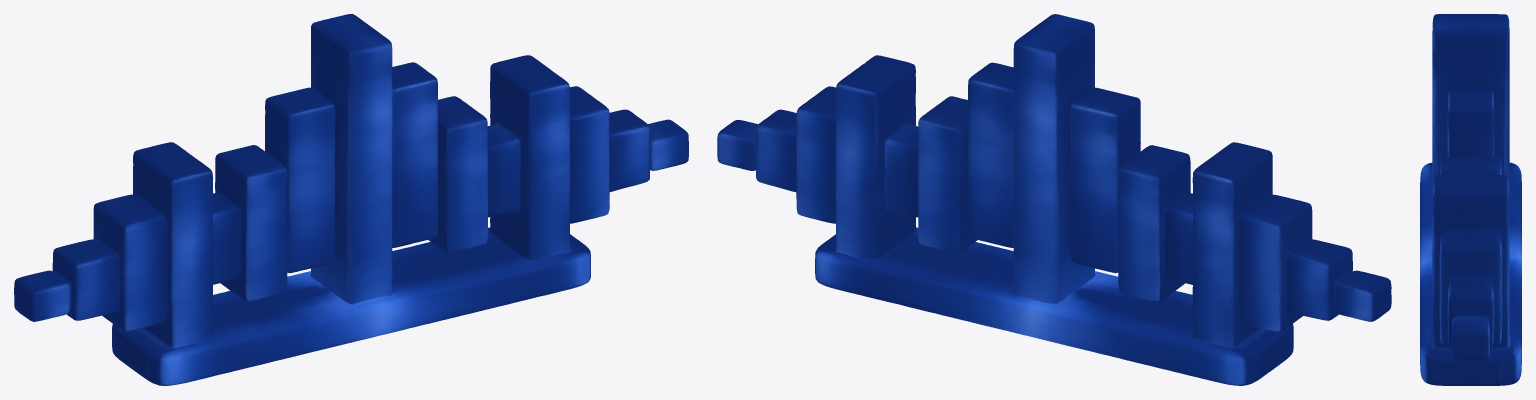
File: home-balanced.glb
3 renders of one model, left to right at view 1: azimuth 30°, elevation 25°; view 2: azimuth 150°, elevation 25°; view 3: azimuth 270°, elevation 25°, orthographic. The views are drawn at different scales.
Bounding box in the file's own units: 1 × 0.4179 × 0.145.
1 material, 1 textured.
